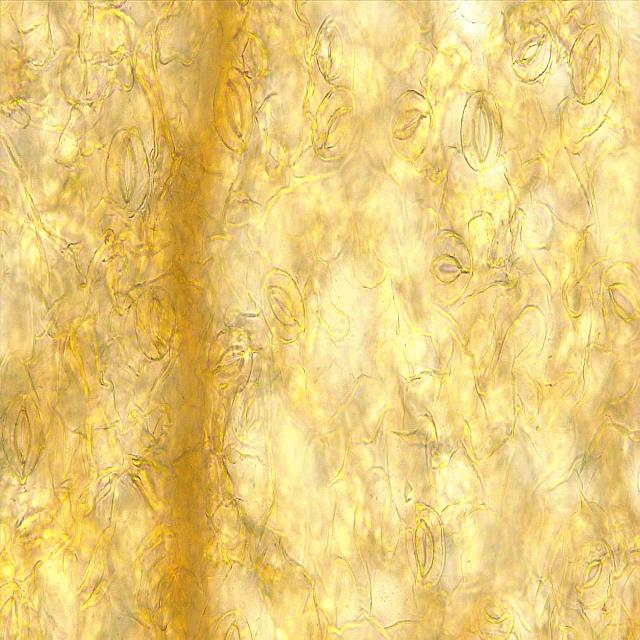Stomata: (420, 227, 474, 305), (104, 126, 151, 212), (1, 392, 45, 482), (212, 64, 255, 155), (403, 504, 447, 591), (260, 266, 307, 345), (460, 88, 504, 171), (568, 22, 612, 104), (310, 84, 356, 162), (206, 323, 254, 396), (134, 284, 177, 362), (389, 89, 434, 163), (571, 538, 616, 611), (601, 261, 640, 338), (508, 20, 553, 82), (470, 584, 516, 640), (232, 378, 267, 444), (315, 22, 346, 80), (0, 582, 31, 640), (212, 607, 254, 640), (554, 608, 596, 640)
